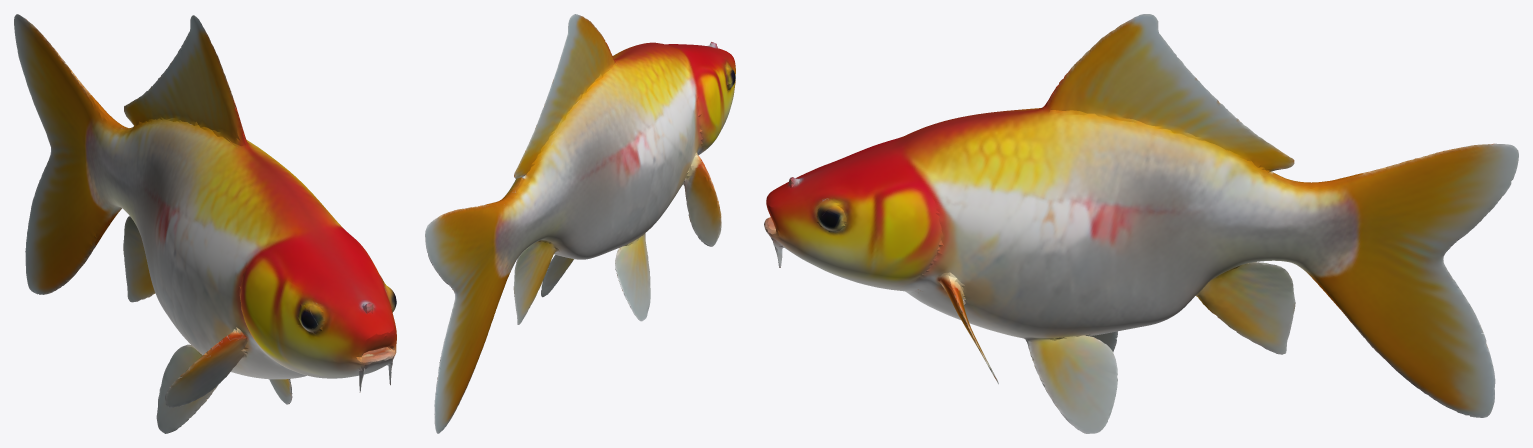
The model's file is fish.glb.
The picture shows the model from 3 angles, left to right: view 1: azimuth 30°, elevation 25°; view 2: azimuth 150°, elevation 25°; view 3: azimuth 270°, elevation 25°; orthographic projection. The views are drawn at different scales.
Visible parts, largest first — view 1: model; view 2: model; view 3: model.
Part boxes in pixels (x1,y1,x2,y2): model: (14,14,396,433); model: (425,14,735,433); model: (764,14,1518,433).
Bounding box in the file's own units: 0.6327 × 1.12 × 1.9.
Materials: 1 (1 with a texture image).
